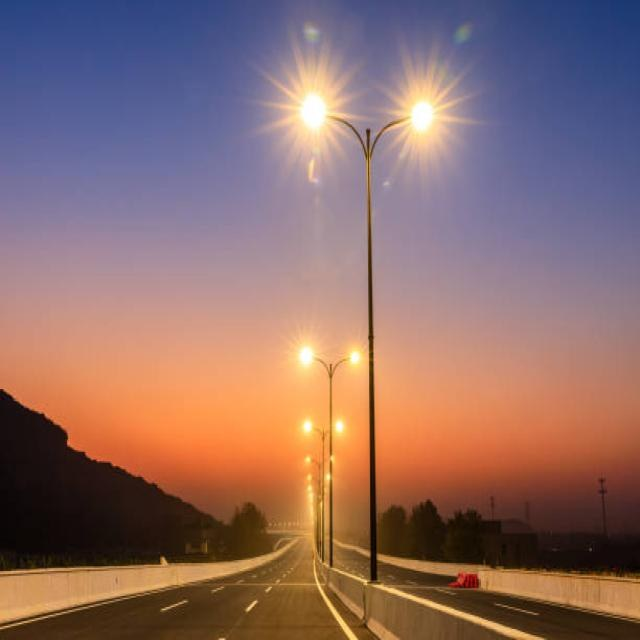acesa: (251, 30, 366, 182), (380, 43, 474, 169), (286, 324, 326, 375)
